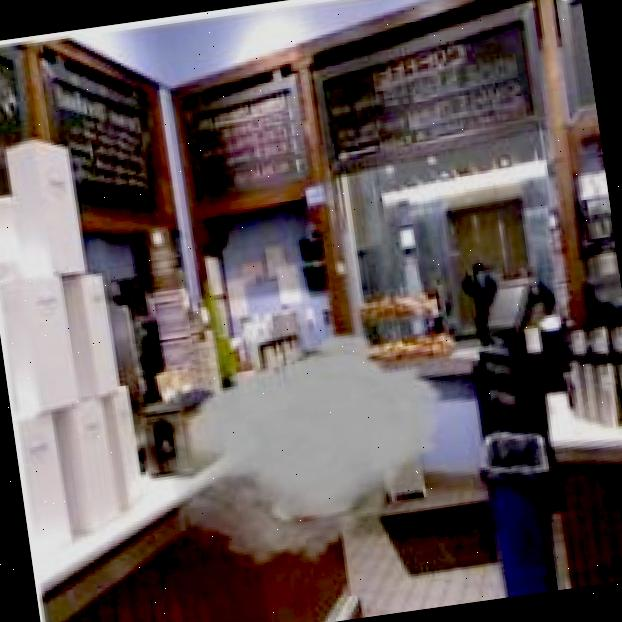smoke: (157, 320, 469, 584)
